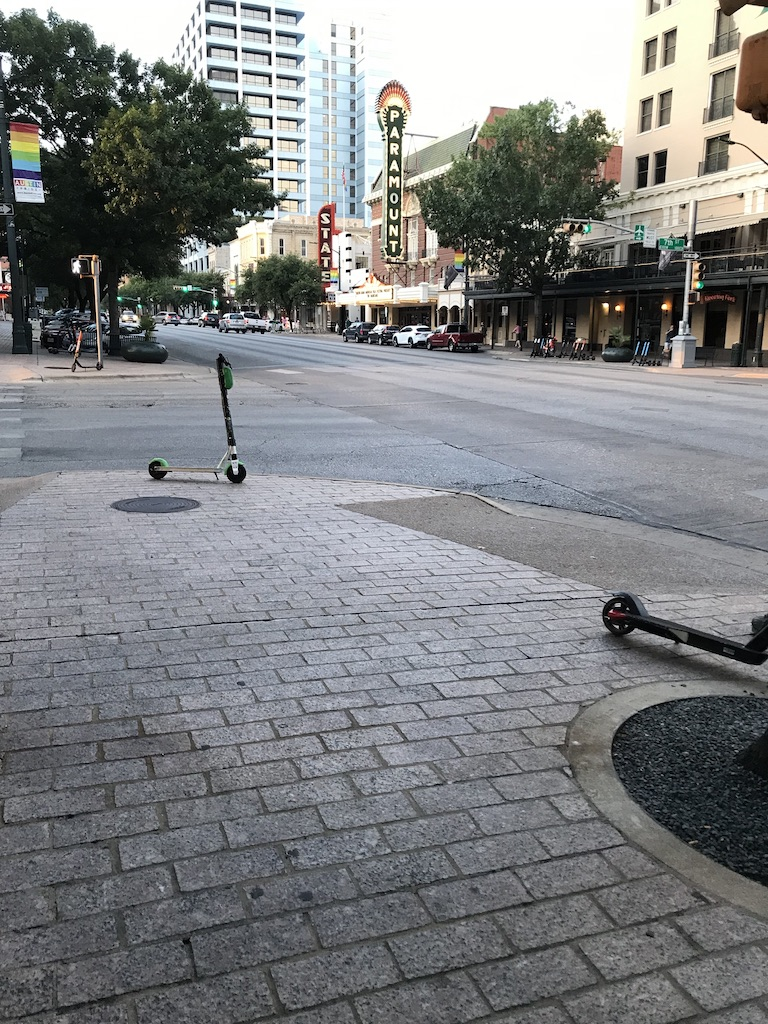scooter: (149, 355, 249, 485), (602, 592, 765, 665), (72, 331, 104, 373), (642, 342, 660, 366), (578, 339, 596, 362), (632, 341, 642, 366), (639, 341, 648, 367)
